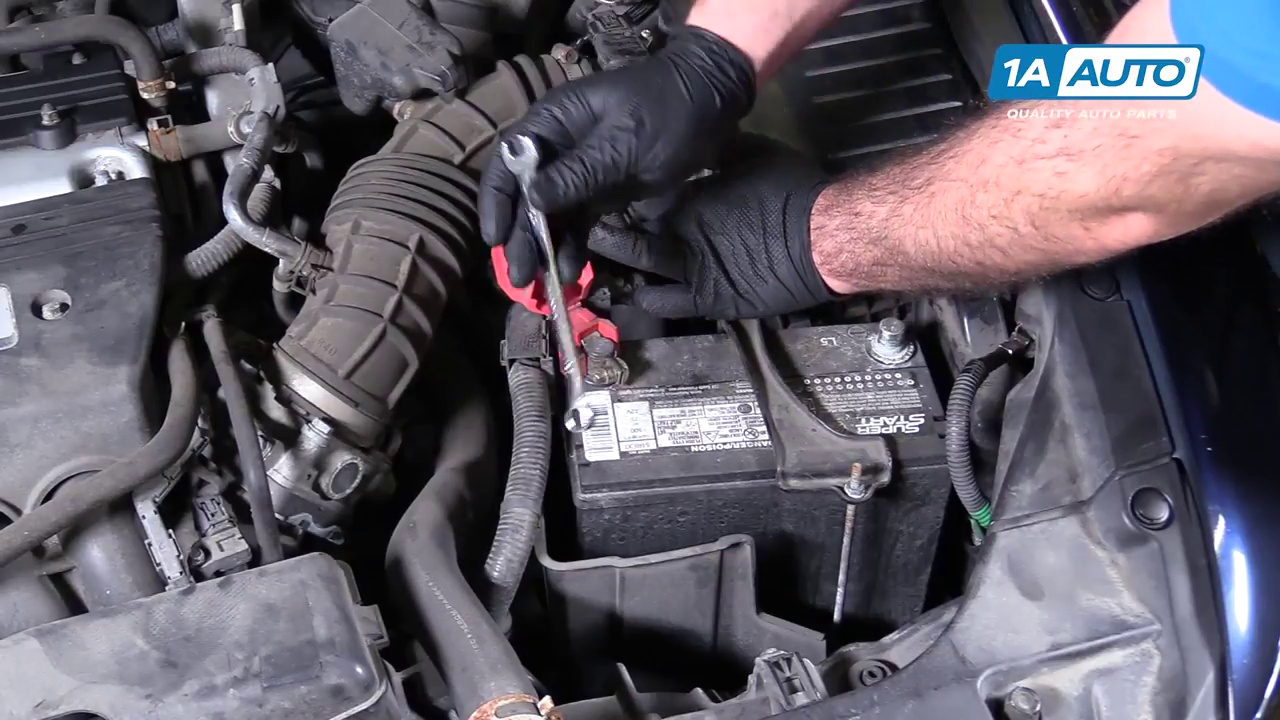battery: (496, 222, 951, 482)
neg_disconnected: (849, 307, 922, 373)
pos_touched: (479, 112, 665, 405)
